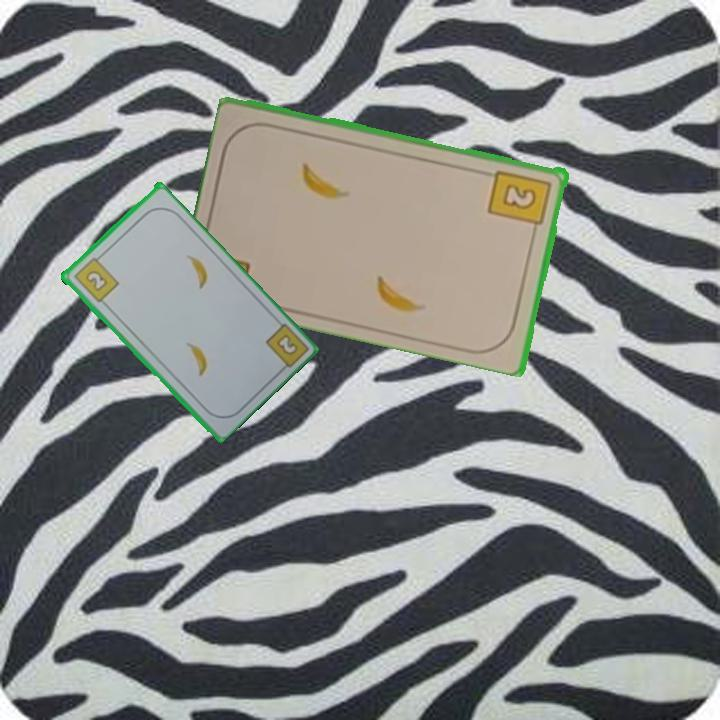2b: (485, 166, 555, 236), (70, 251, 121, 305), (272, 331, 301, 358)
